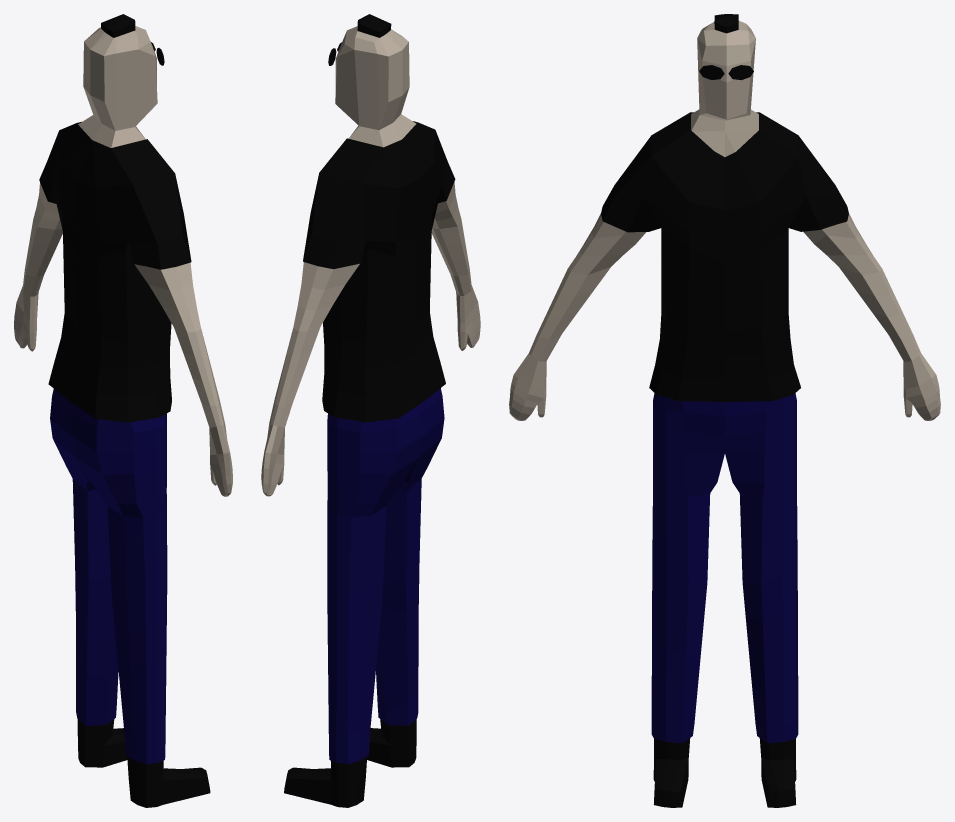
The model's file is character3.fbx.
The picture shows the model from 3 angles, left to right: view 1: azimuth 30°, elevation 25°; view 2: azimuth 150°, elevation 25°; view 3: azimuth 270°, elevation 25°; orthographic projection.
Visible parts, largest first — view 1: Character3Shirt, Character3Jeans, Character3, Character3Shoe; view 2: Character3Shirt, Character3Jeans, Character3, Character3Shoe; view 3: Character3Shirt, Character3Jeans, Character3, Character3Shoe.
Part boxes in pixels (bbox=[...]): Character3Shirt: bbox=[39, 121, 191, 422]; Character3Jeans: bbox=[50, 389, 167, 764]; Character3: bbox=[14, 14, 232, 496]; Character3Shoe: bbox=[77, 719, 210, 807]; Character3Shirt: bbox=[303, 121, 455, 422]; Character3Jeans: bbox=[327, 388, 444, 764]; Character3: bbox=[261, 14, 480, 496]; Character3Shoe: bbox=[284, 719, 416, 807]; Character3Shirt: bbox=[601, 112, 848, 401]; Character3Jeans: bbox=[651, 393, 798, 743]; Character3: bbox=[509, 14, 940, 420]; Character3Shoe: bbox=[653, 738, 796, 807].
Bounding box in the file's own units: 110 × 725 × 370.
